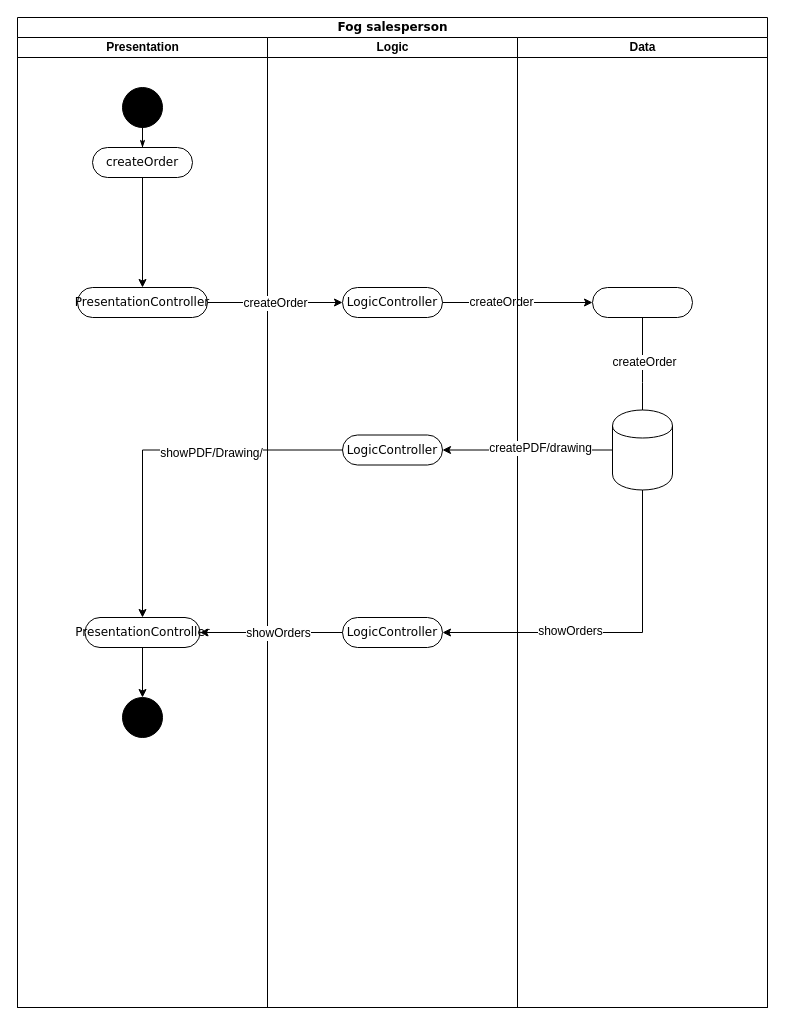
The diagram is 785 pixels wide and 1025 high, and some of its shapes have lost their labels. Here are the shapes that lost their labels. From the top down, the box of each, then its label:
(592, 286, 692, 318): DAO Controller
(612, 409, 672, 490): Database
